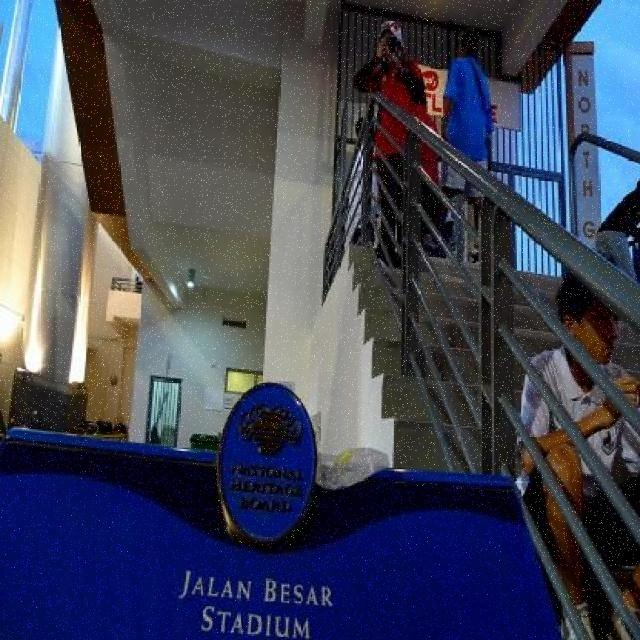stair: (347, 243, 640, 638)
